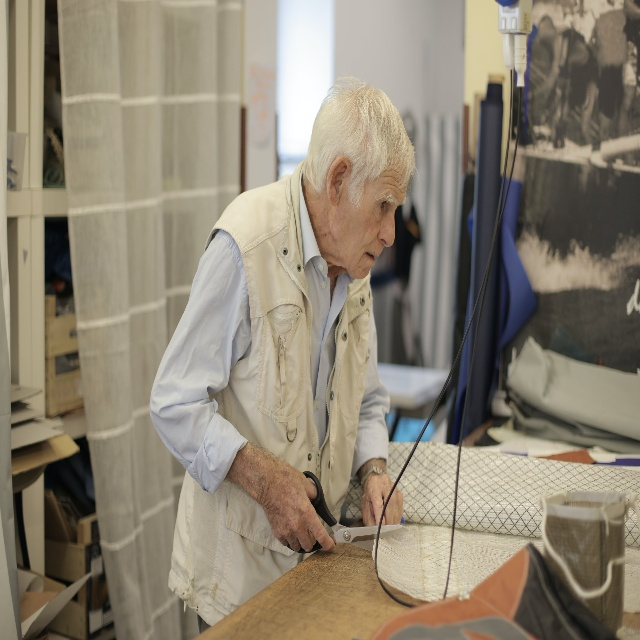Sin_guantes: (260, 458, 336, 554), (359, 470, 404, 525)
